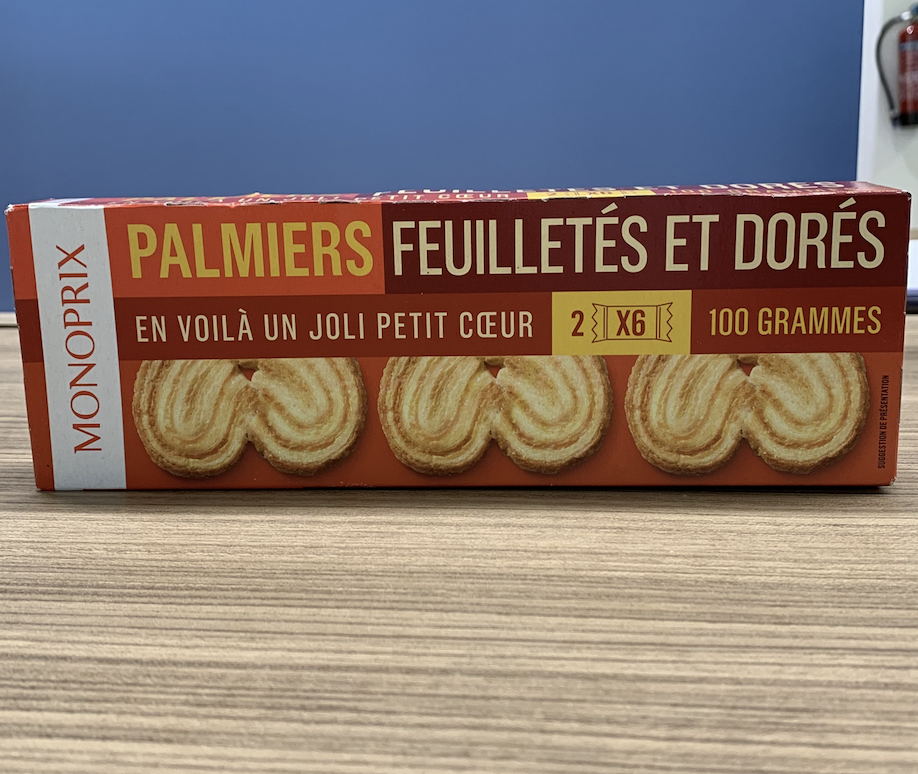crackers_100g-199g: (36, 208, 886, 480)
